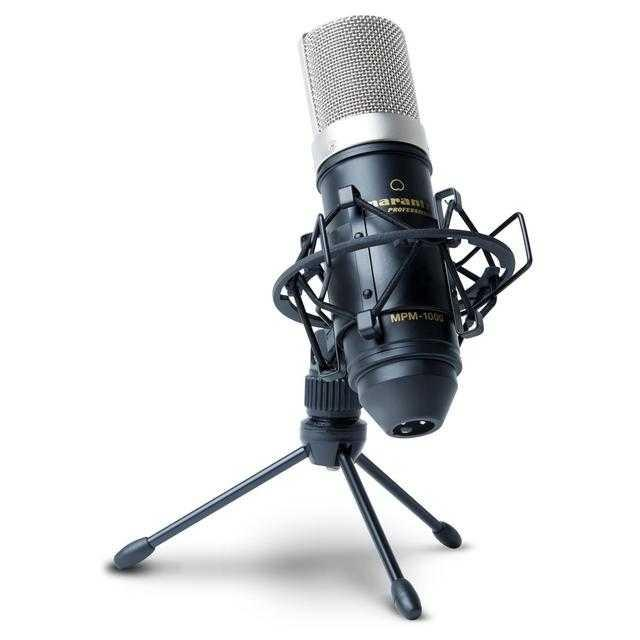microphone: (295, 18, 515, 438), (297, 13, 429, 192)
